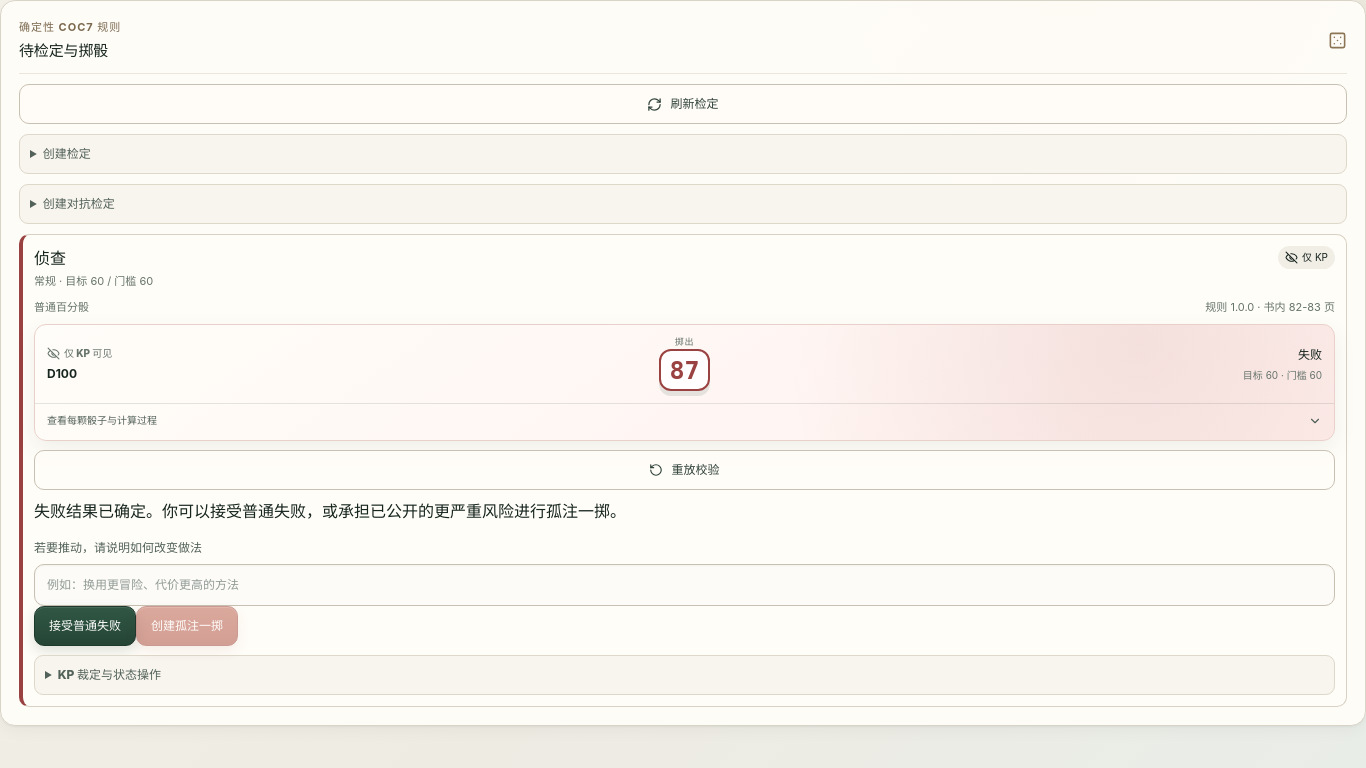
it: CheckPanel › labels a hidden KP result without changing its persisted dice
The image size is (1366, 768).
Expected: the element named "侦查投骰结果" shows "仅 KP 可见", [64,346,112,358]
Expected: the element named "侦查投骰结果" shows "87", [669,356,700,385]
Click the heading "查看每颗骰子与计算过程" at (102, 420), box [47,414,1322,428]
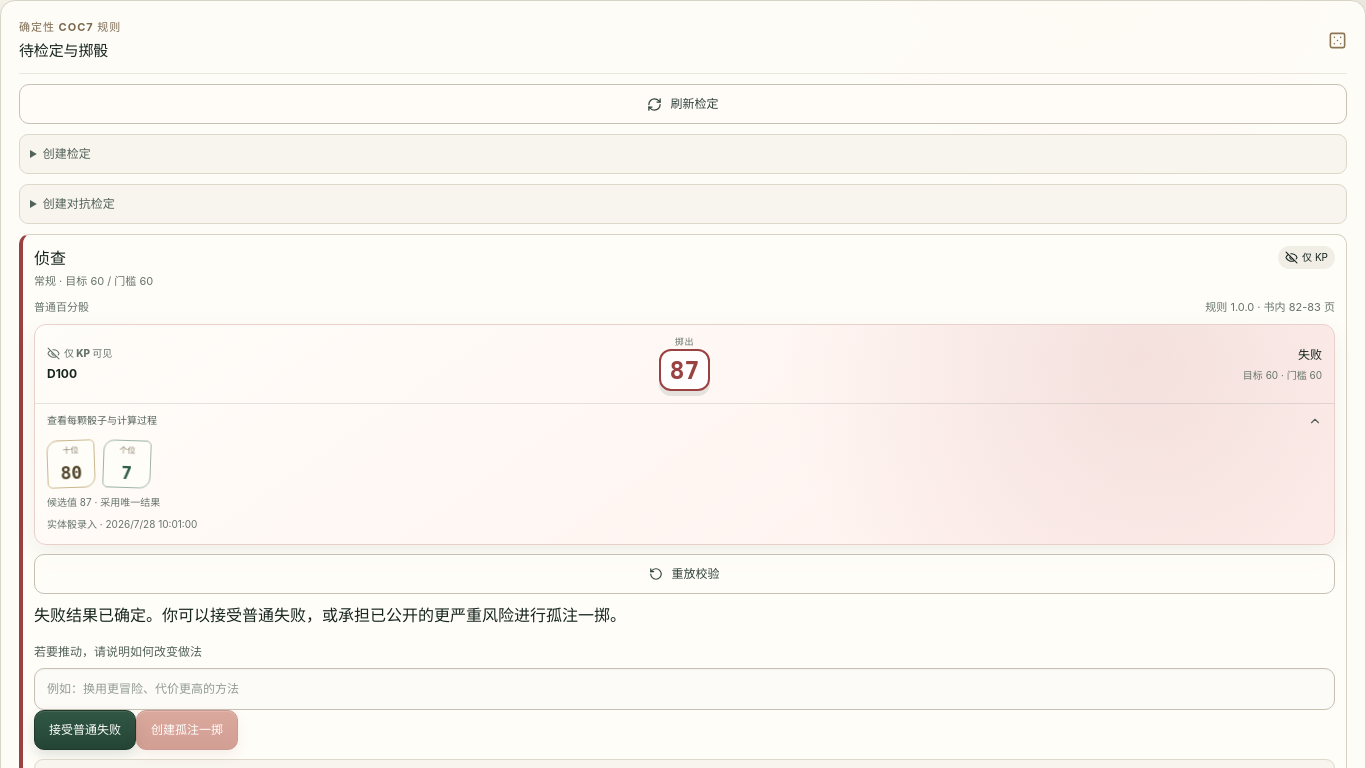
Expected: the element named "侦查投骰结果" shows "实体骰录入", [47,518,97,530]
